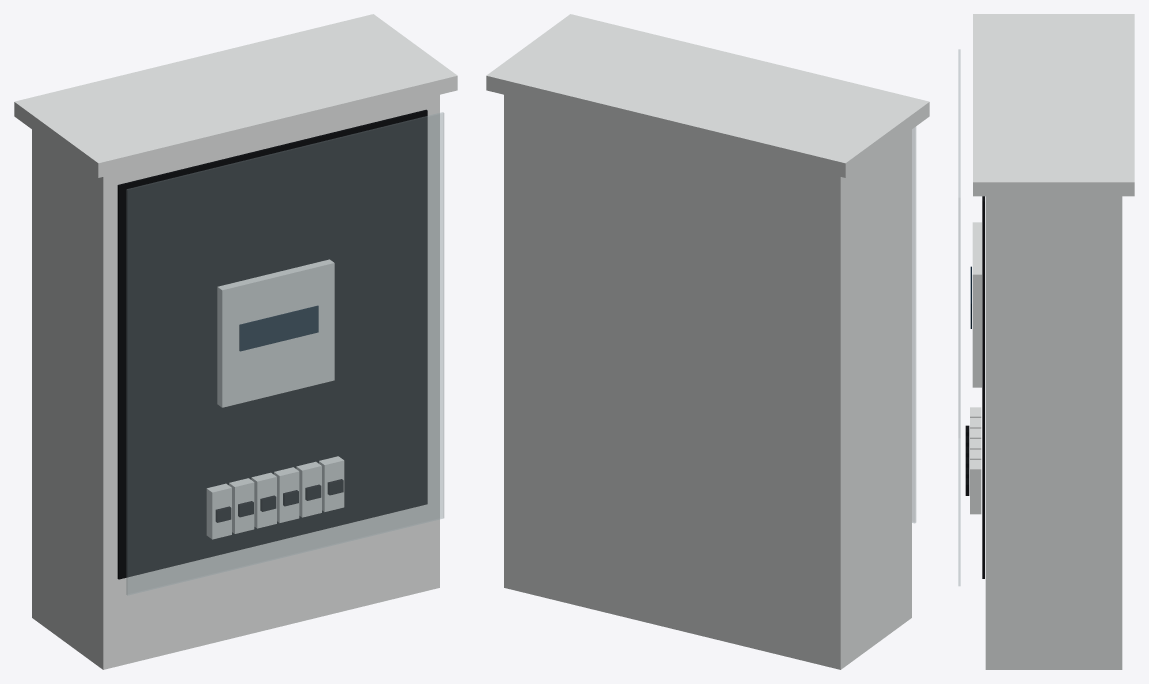
File: Villanyoraszekreny_kulteri.obj
3 views of the same model, side by side, from view 1: azimuth 30°, elevation 25°; view 2: azimuth 150°, elevation 25°; view 3: azimuth 270°, elevation 25° (orthographic). The views are drawn at different scales.
Size of the model in its own units: 0.64 by 0.875 by 0.284.
